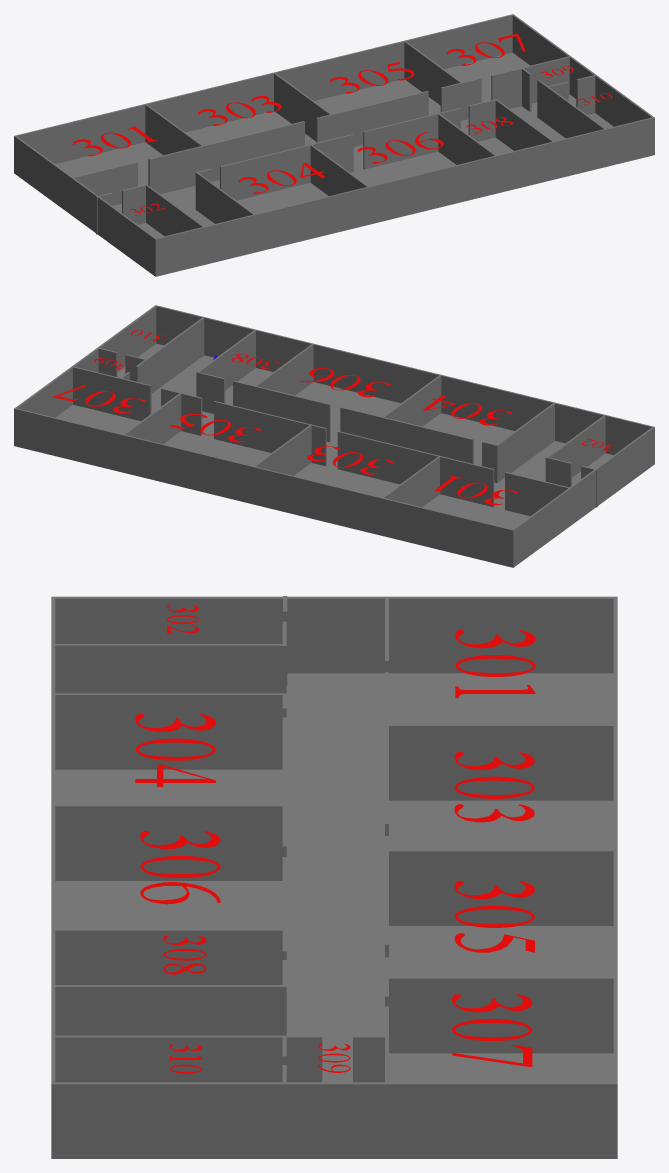
Rendered from mitch3.obj.
3 views of the same model, one above another, from view 1: azimuth 30°, elevation 25°; view 2: azimuth 150°, elevation 25°; view 3: azimuth 270°, elevation 25° (orthographic). The views are drawn at different scales.
Visible parts, largest first — view 1: mitch0:pCube3, mitch0:pCube4, mitch0:wood0:pPlane1, pCube1, pCube64, pCube66, pCube7, pCube65, pCube18, pCube50, pCube6, pCube61 (+13 smaller); view 2: mitch0:pCube4, mitch0:pCube3, mitch0:wood0:pPlane1, pCube1, pCube64, pCube7, pCube65, pCube66, pCube50, pCube18, pCube6, pCube2 (+13 smaller); view 3: mitch0:wood0:pPlane1, pCube7, pCube1, pCube63, pCube2, pCube61, pCube60, pCube59, pCube6, pCube67, pCube5, mitch0:pCube2 (+3 smaller).
Boxes of the visible parts, left/top/right/bottom form: mitch0:pCube3: left=154, top=117, right=654, bottom=276; mitch0:pCube4: left=14, top=14, right=513, bottom=173; mitch0:wood0:pPlane1: left=55, top=52, right=613, bottom=238; pCube1: left=15, top=136, right=155, bottom=275; pCube64: left=148, top=121, right=304, bottom=194; pCube66: left=220, top=134, right=353, bottom=200; pCube7: left=512, top=14, right=653, bottom=126; pCube65: left=316, top=91, right=428, bottom=146; pCube18: left=363, top=108, right=460, bottom=169; pCube50: left=491, top=56, right=569, bottom=108; pCube6: left=537, top=80, right=605, bottom=138; pCube61: left=404, top=41, right=463, bottom=120; mitch0:pCube4: left=14, top=408, right=514, bottom=567; mitch0:pCube3: left=155, top=305, right=654, bottom=464; mitch0:wood0:pPlane1: left=55, top=343, right=613, bottom=529; pCube1: left=513, top=427, right=654, bottom=566; pCube64: left=337, top=431, right=494, bottom=506; pCube7: left=15, top=306, right=156, bottom=417; pCube65: left=214, top=401, right=326, bottom=466; pCube66: left=340, top=407, right=473, bottom=463; pCube50: left=73, top=366, right=151, bottom=420; pCube18: left=233, top=380, right=330, bottom=442; pCube6: left=135, top=317, right=204, bottom=393; pCube2: left=496, top=403, right=554, bottom=481; mitch0:wood0:pPlane1: left=55, top=673, right=613, bottom=1082; pCube7: left=55, top=1082, right=617, bottom=1158; pCube1: left=54, top=596, right=613, bottom=673; pCube63: left=53, top=804, right=282, bottom=880; pCube2: left=55, top=693, right=282, bottom=769; pCube61: left=385, top=976, right=613, bottom=1053; pCube60: left=385, top=849, right=613, bottom=925; pCube59: left=385, top=724, right=613, bottom=800; pCube6: left=53, top=1035, right=322, bottom=1082; pCube67: left=53, top=929, right=282, bottom=984; pCube5: left=53, top=985, right=282, bottom=1035; mitch0:pCube2: left=53, top=644, right=282, bottom=693.
Size of the model in its own units: 2802 by 201 by 1374.
